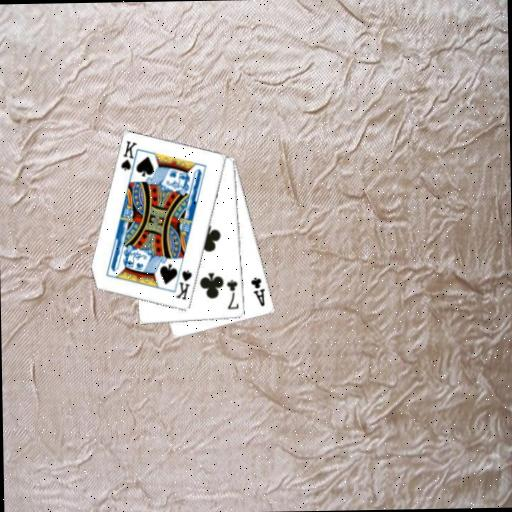7C: (224, 277, 241, 311)
AC: (248, 274, 267, 308)
KS: (118, 138, 142, 177), (173, 268, 195, 302)
